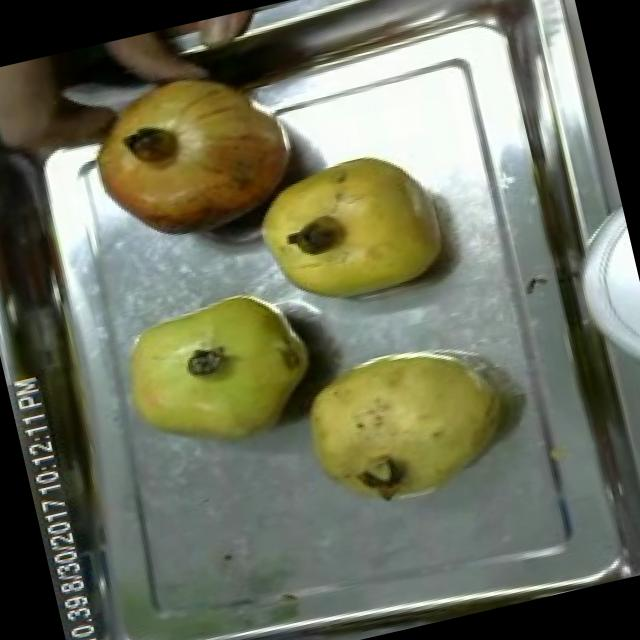fruit: (278, 318, 538, 532), (67, 46, 316, 262), (96, 273, 337, 472), (239, 134, 464, 324)
